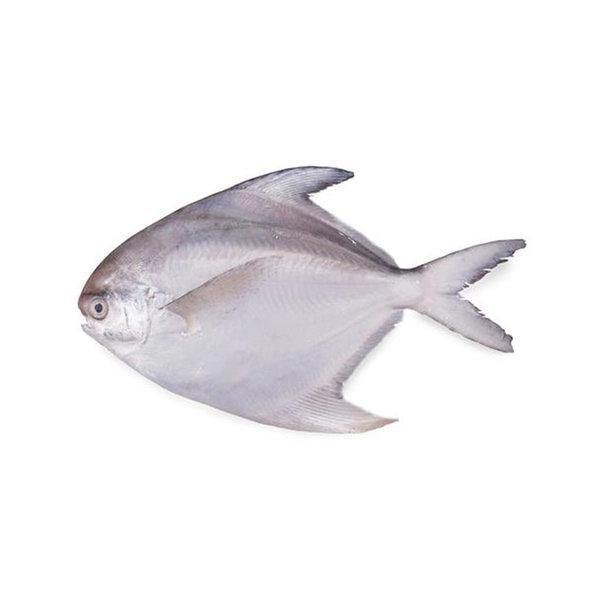Ikan Bawal: (75, 166, 522, 435)
